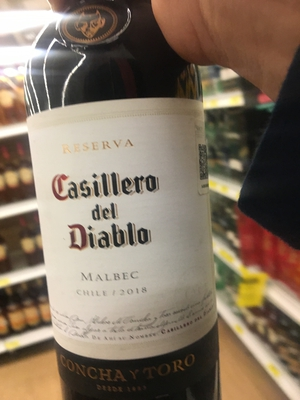casillero del diablo malbec: (20, 16, 228, 400)
